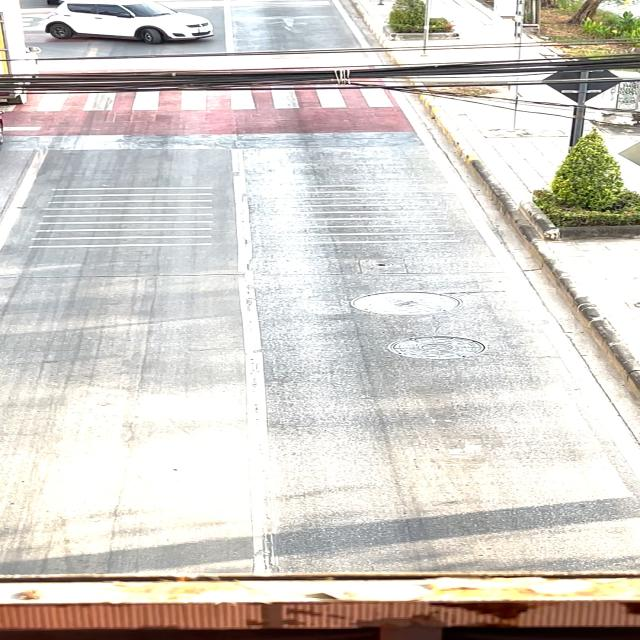car: (34, 0, 231, 55)
